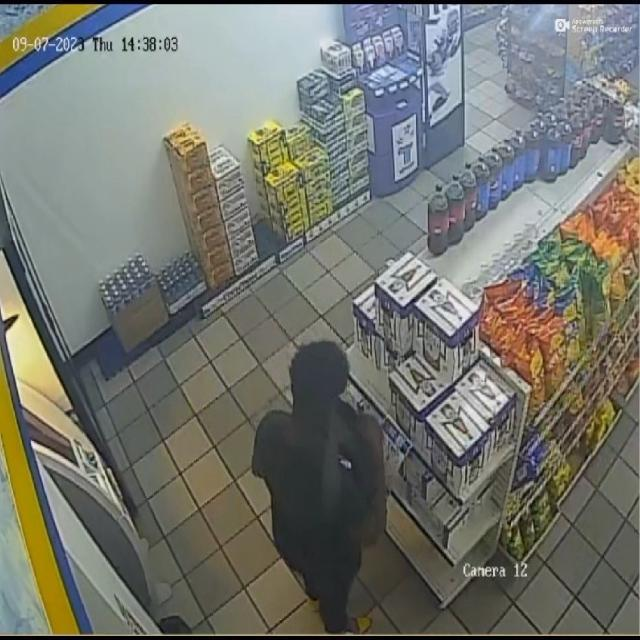Normal: (236, 305, 414, 626)
